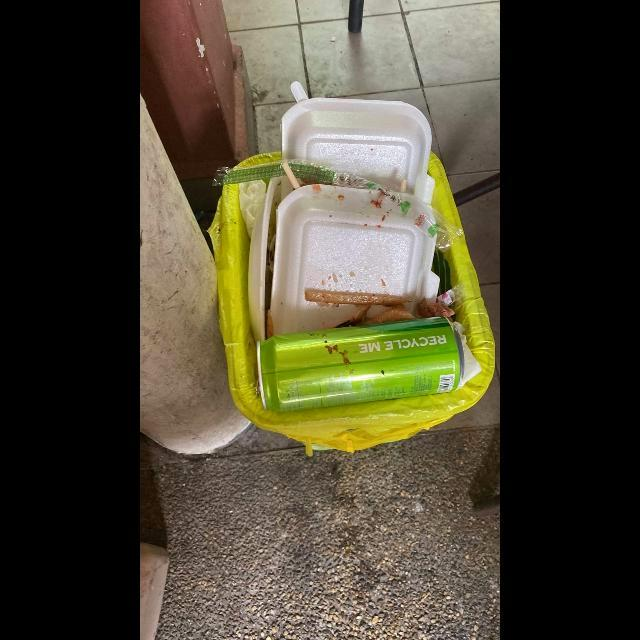aluminum: (257, 317, 463, 413)
